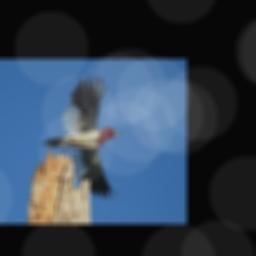Woodpecker: (40, 75, 123, 200)
